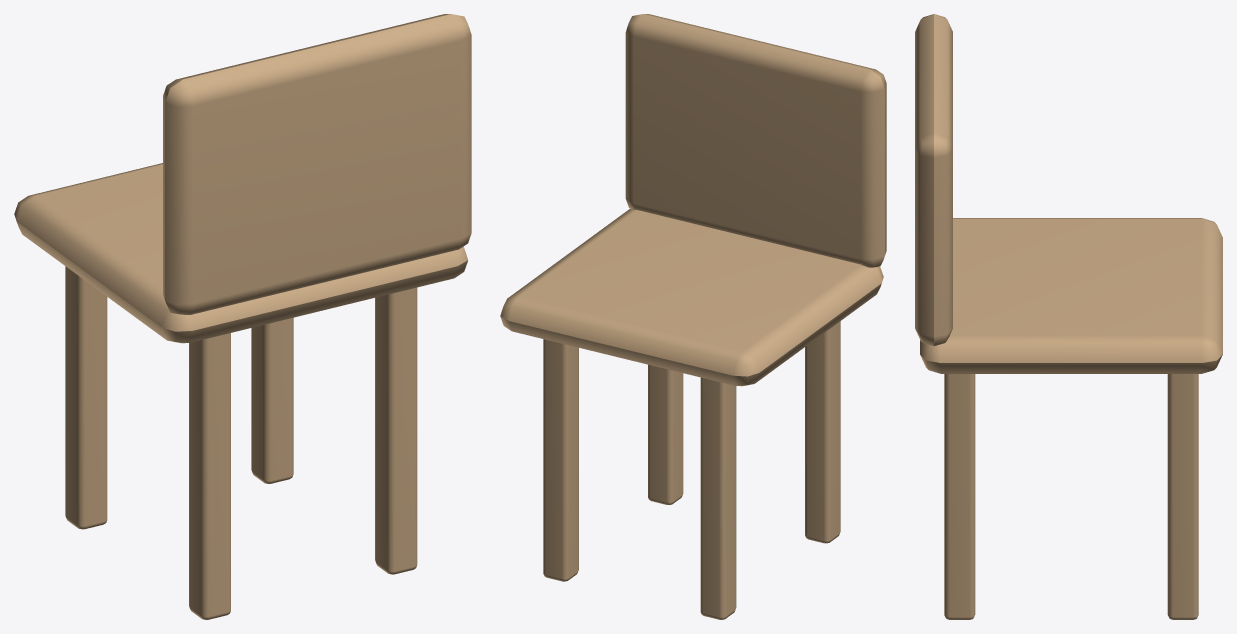
The model's file is ikea_lisabo_chair_80457236.glb.
The picture shows the model from 3 angles, left to right: view 1: azimuth 30°, elevation 25°; view 2: azimuth 150°, elevation 25°; view 3: azimuth 270°, elevation 25°; orthographic projection. The views are drawn at different scales.
Visible parts, largest first — view 1: back.010, seat.009, leg.054, leg.052, leg.053, leg.055; view 2: back.010, seat.009, leg.053, leg.055, leg.052, leg.054; view 3: seat.009, back.010, leg.054, leg.055.
Boxes of the visible parts, x1=… form: back.010: x1=163, y1=14, x2=471, y2=314; seat.009: x1=14, y1=163, x2=468, y2=343; leg.054: x1=375, y1=287, x2=417, y2=574; leg.052: x1=189, y1=333, x2=230, y2=619; leg.053: x1=65, y1=266, x2=107, y2=529; leg.055: x1=251, y1=317, x2=293, y2=483; back.010: x1=625, y1=14, x2=886, y2=267; seat.009: x1=500, y1=209, x2=883, y2=386; leg.053: x1=700, y1=377, x2=736, y2=619; leg.055: x1=543, y1=339, x2=578, y2=581; leg.052: x1=805, y1=321, x2=840, y2=543; leg.054: x1=648, y1=364, x2=683, y2=504; seat.009: x1=920, y1=218, x2=1222, y2=373; back.010: x1=915, y1=14, x2=952, y2=346; leg.054: x1=944, y1=374, x2=975, y2=619; leg.055: x1=1167, y1=374, x2=1198, y2=619.
Bounding box in the file's own units: 0.46 × 0.8 × 0.4457.
